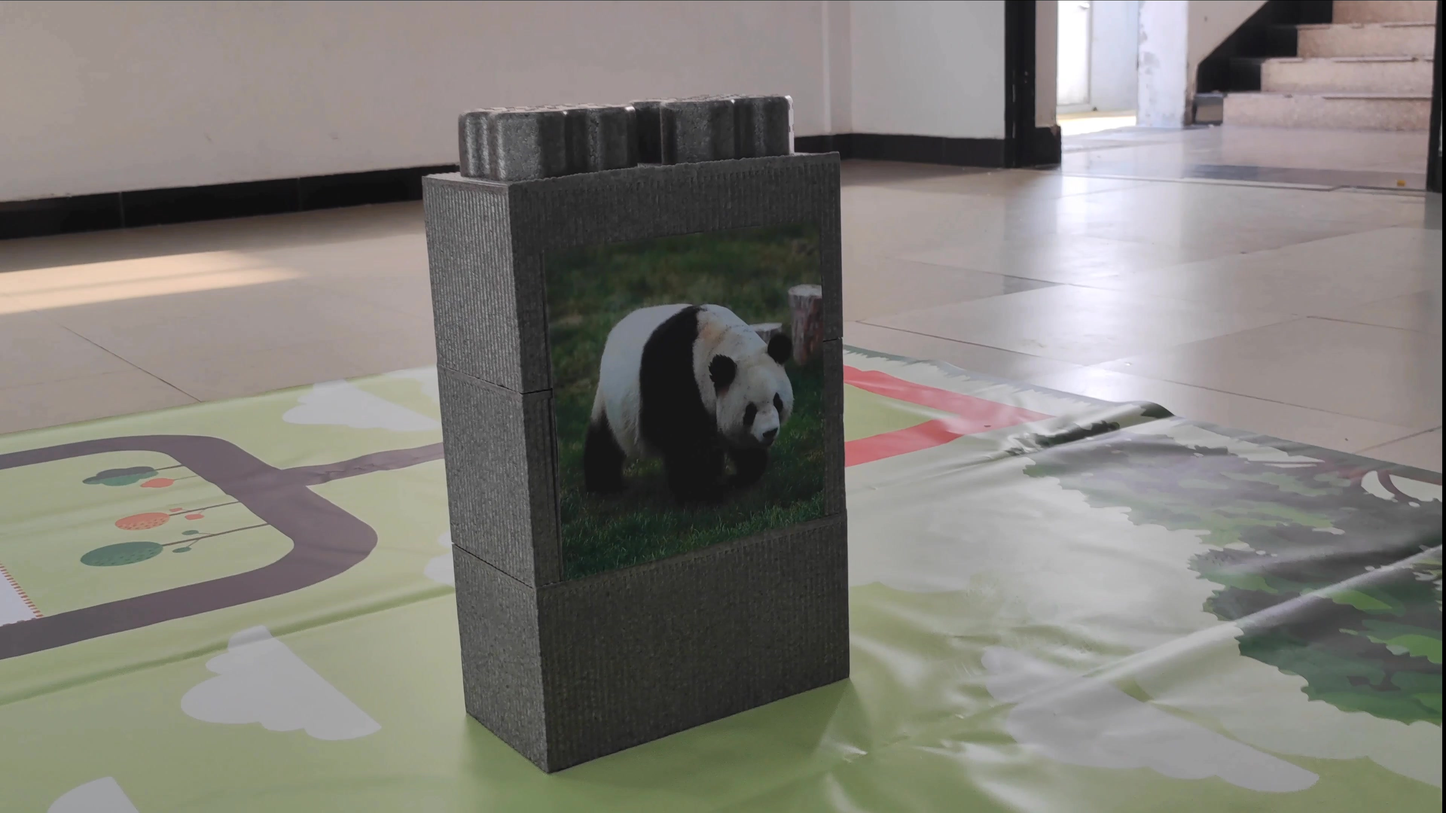panda: (552, 247, 822, 508)
